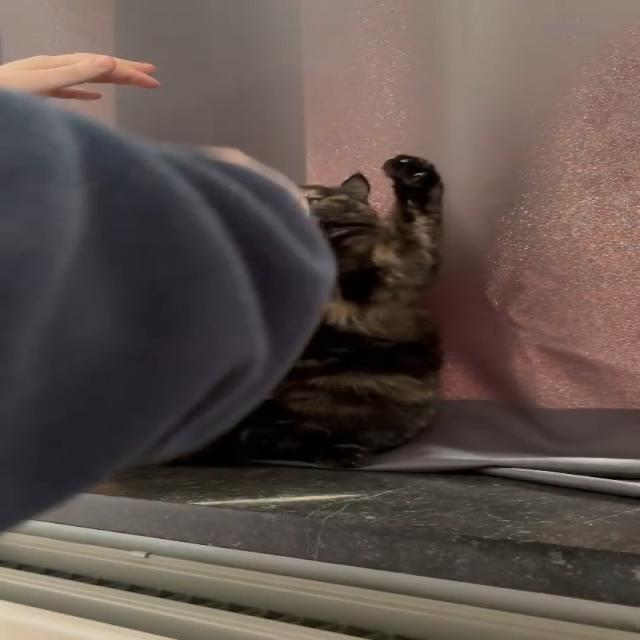authorized: (188, 153, 448, 470)
